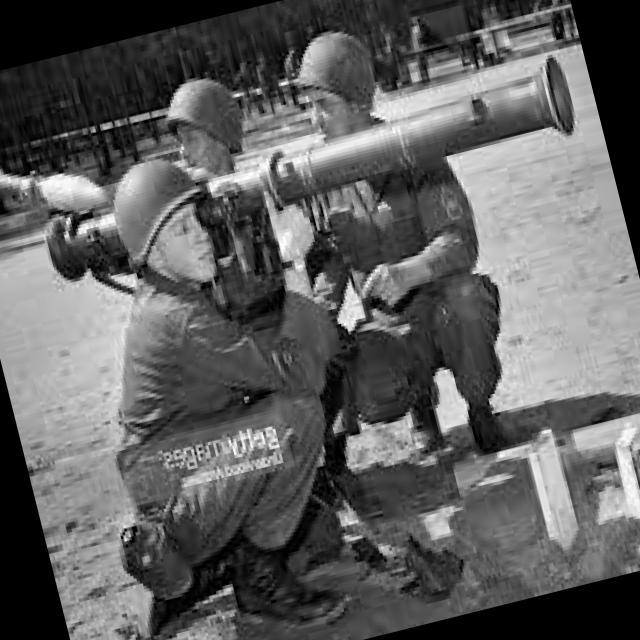rocket: (32, 47, 586, 287)
